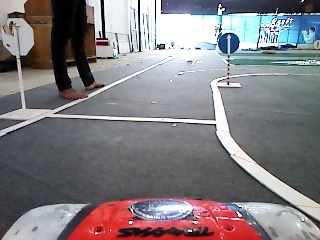straight: (217, 30, 241, 57)
